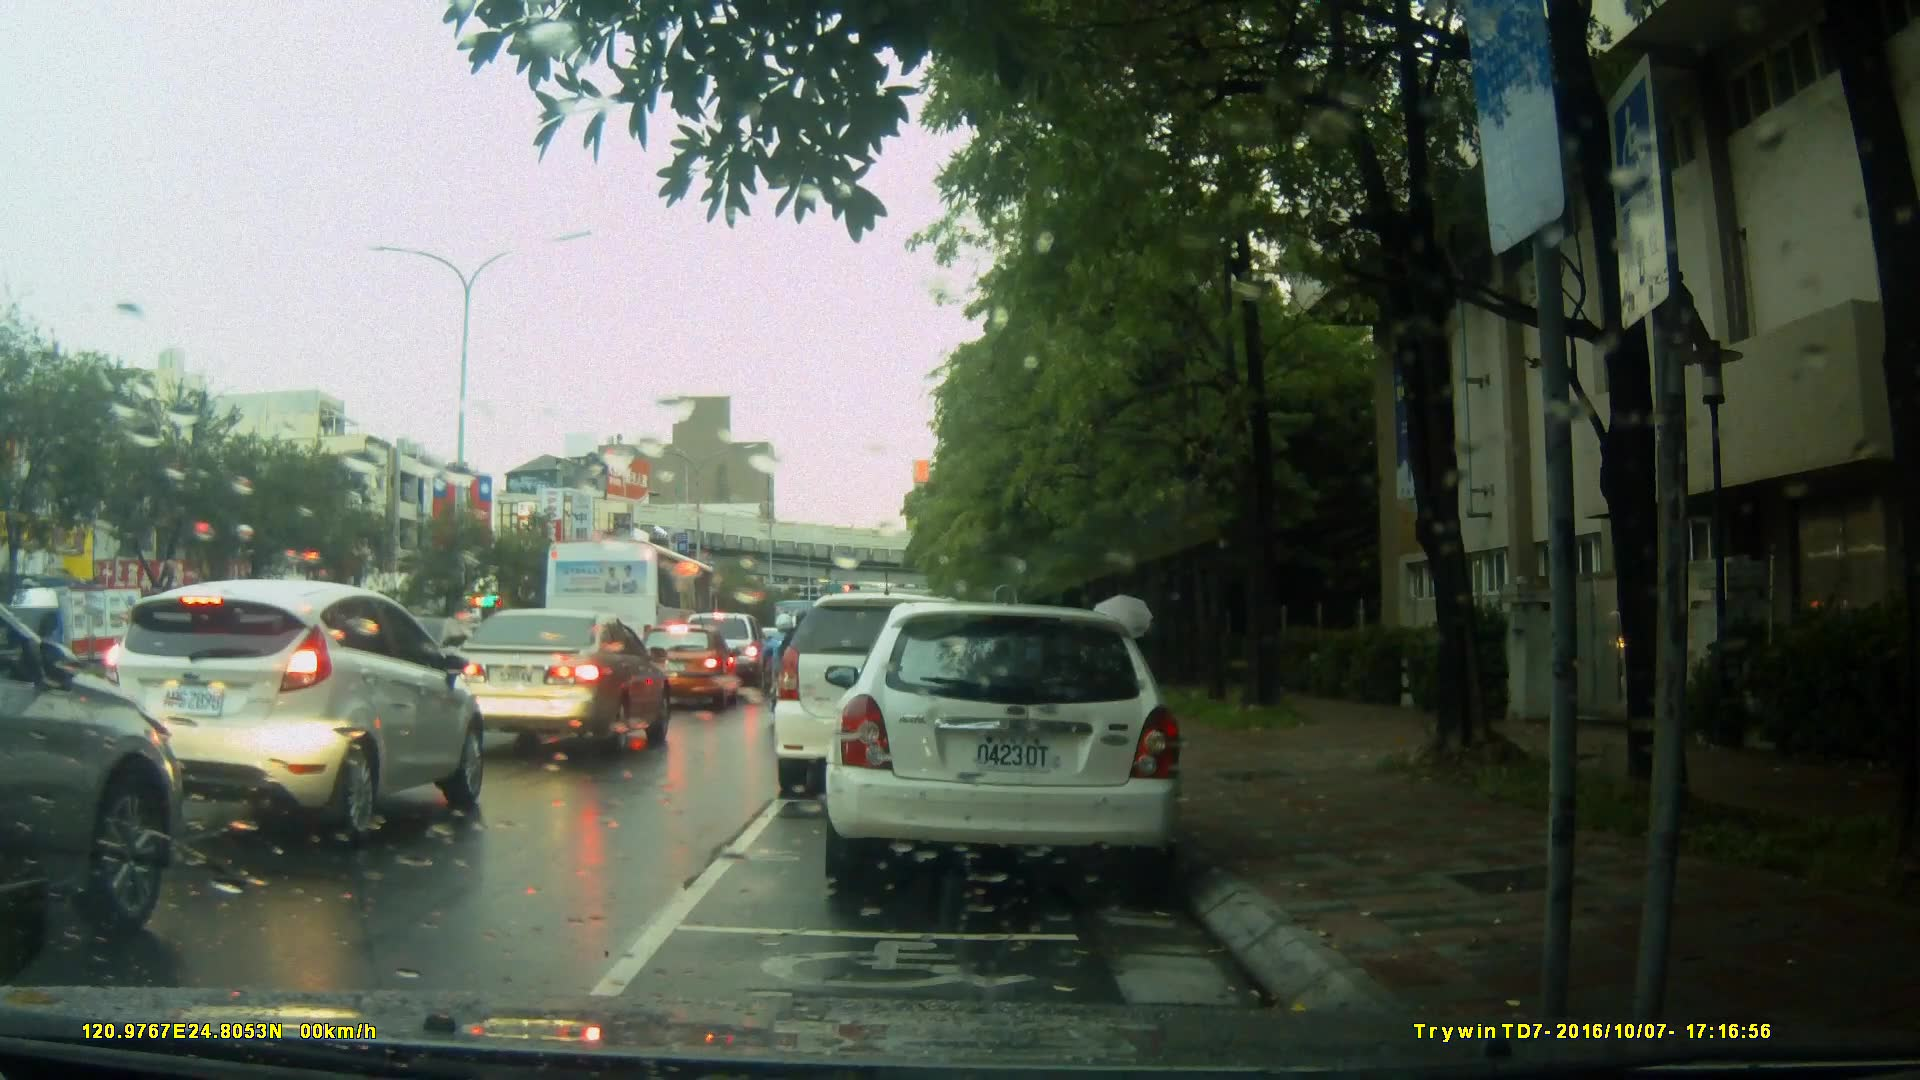vehicle: (835, 593, 1193, 898), (102, 578, 489, 845), (1, 547, 185, 971), (775, 589, 1026, 785), (448, 605, 675, 757), (545, 535, 725, 669), (1, 585, 154, 698), (632, 624, 740, 712)
